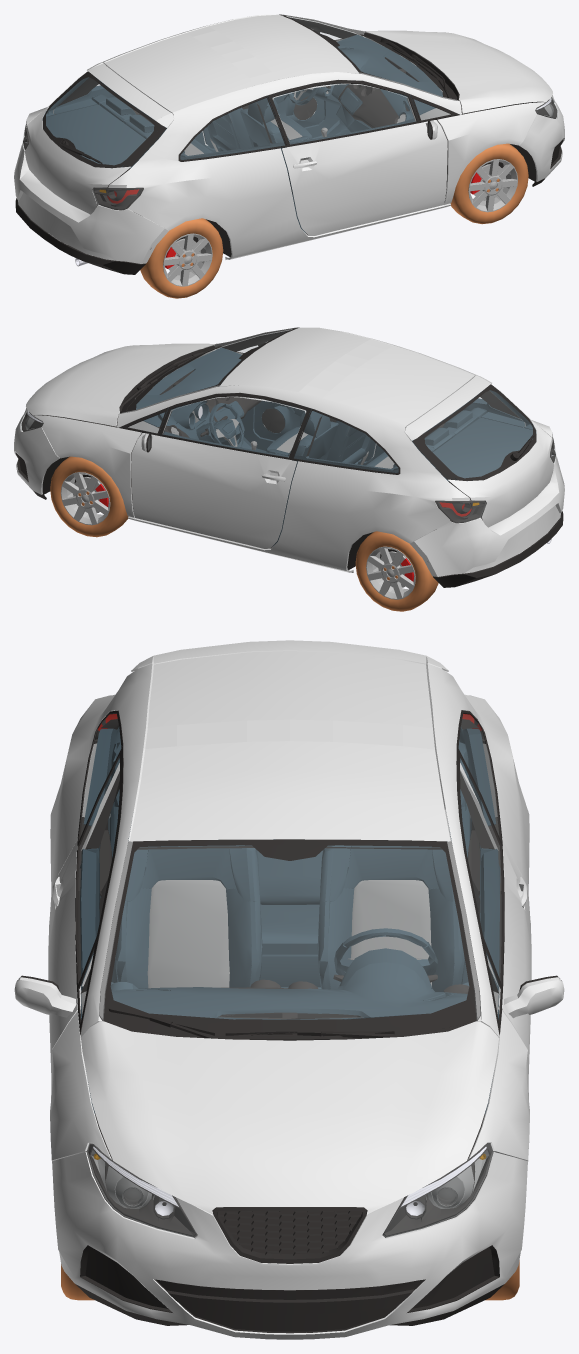
The model's file is SEDAN28.obj.
The picture shows the model from 3 angles, top to bottom: view 1: azimuth 30°, elevation 25°; view 2: azimuth 150°, elevation 25°; view 3: azimuth 270°, elevation 25°; orthographic projection. The views are drawn at different scales.
Visible parts, largest first — view 1: 28; view 2: 28; view 3: 28.
Part boxes in pixels (<box>): 28: <box>14,14,564,298</box>; 28: <box>14,327,564,611</box>; 28: <box>14,640,564,1339</box>.
Size of the model in its own units: 4.03 by 1.4 by 1.92.
